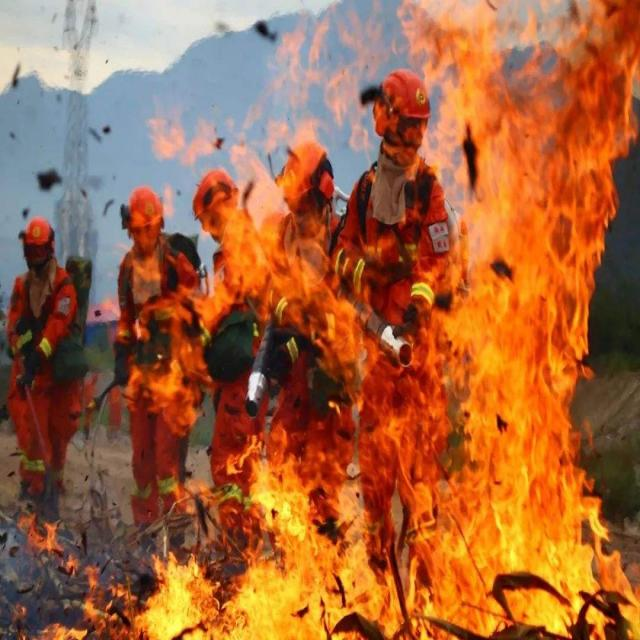fire: (106, 1, 638, 623)
